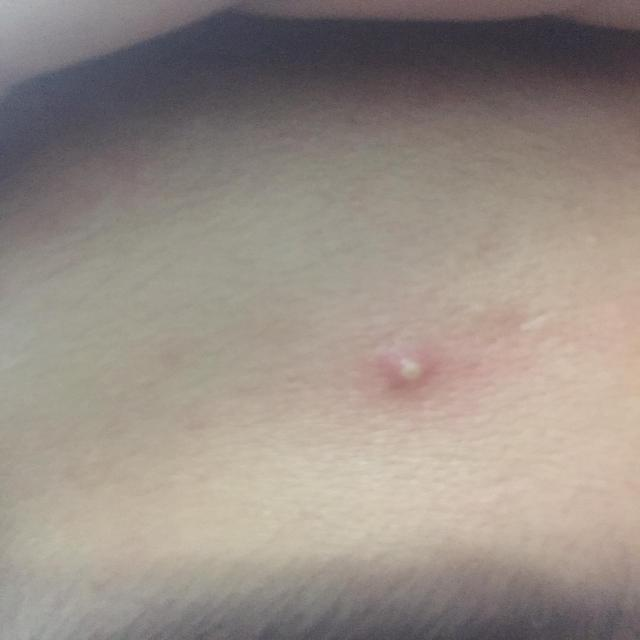blackheads: (379, 344, 435, 399)
